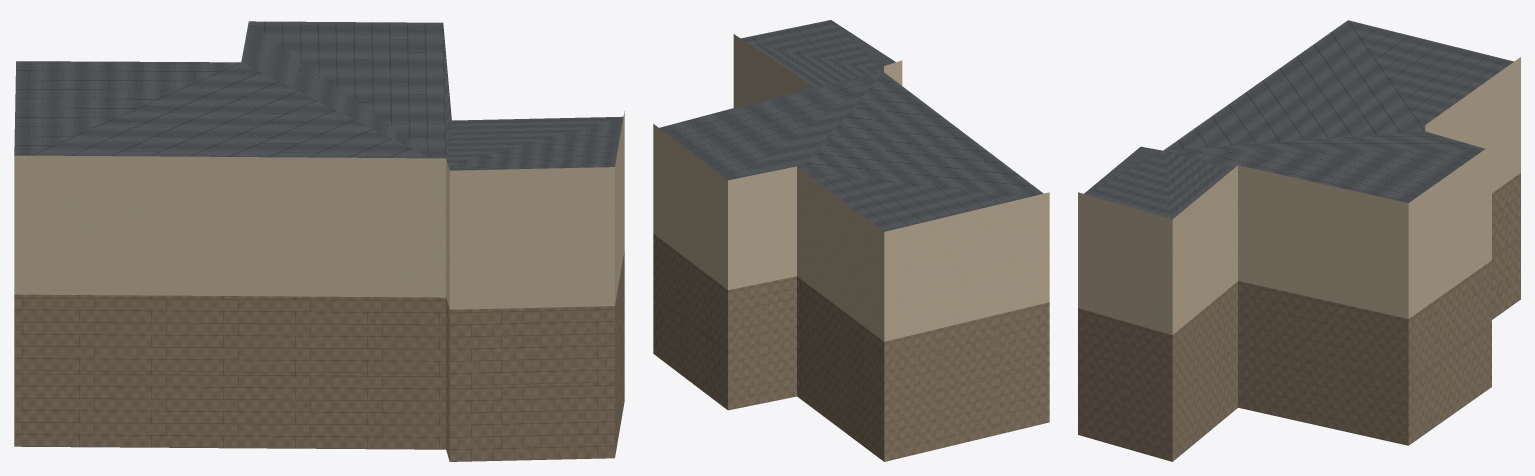
Rendered from bld_c-17_-19_774.gltf.
The picture shows the model from 3 angles, left to right: view 1: azimuth 30°, elevation 25°; view 2: azimuth 150°, elevation 25°; view 3: azimuth 270°, elevation 25°; orthographic projection. The views are drawn at different scales.
Parts seen in each view (by area): view 1: bld_c-17_-19_774; view 2: bld_c-17_-19_774; view 3: bld_c-17_-19_774.
Part boxes in pixels (x1=…): bld_c-17_-19_774: x1=14, y1=21, x2=624, y2=461; bld_c-17_-19_774: x1=653, y1=20, x2=1049, y2=461; bld_c-17_-19_774: x1=1078, y1=20, x2=1520, y2=461.
Size of the model in its own units: 17.03 by 9.38 by 15.51.
4 materials, 4 textured.
